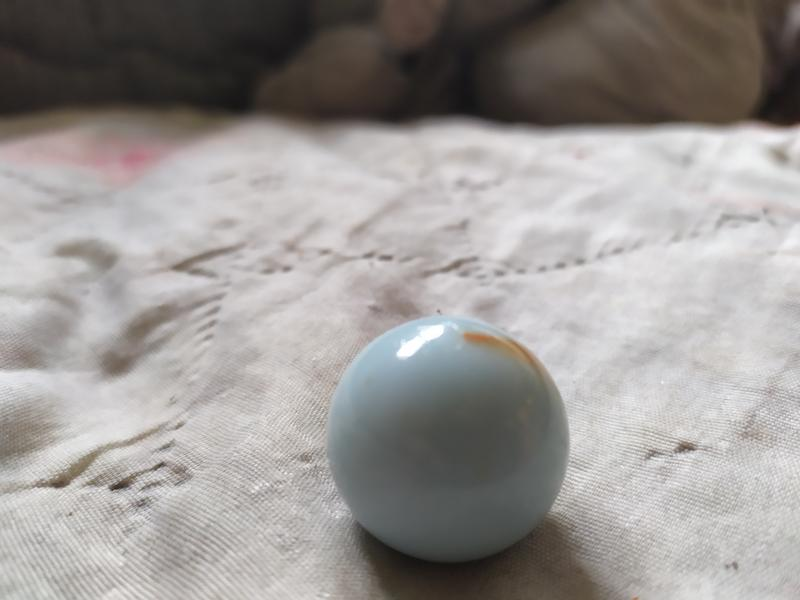Warning: (321, 309, 577, 569)
